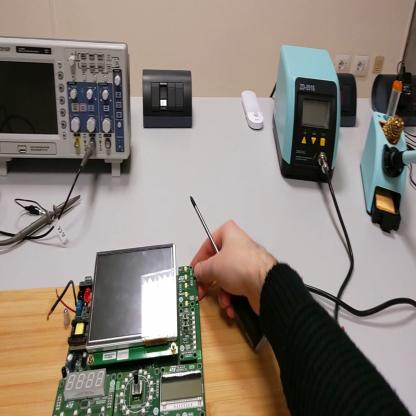hand: (191, 219, 271, 315)
low voltage board: (46, 243, 206, 416)
oscilloscope: (1, 35, 133, 181)
oscilloscope probe tip: (12, 198, 82, 245)
screwdriver-: (191, 198, 269, 353)
socket: (373, 73, 416, 126), (339, 73, 359, 126)
welder base: (362, 81, 407, 233)
welder station: (274, 50, 341, 184)
working area: (2, 283, 291, 416)
